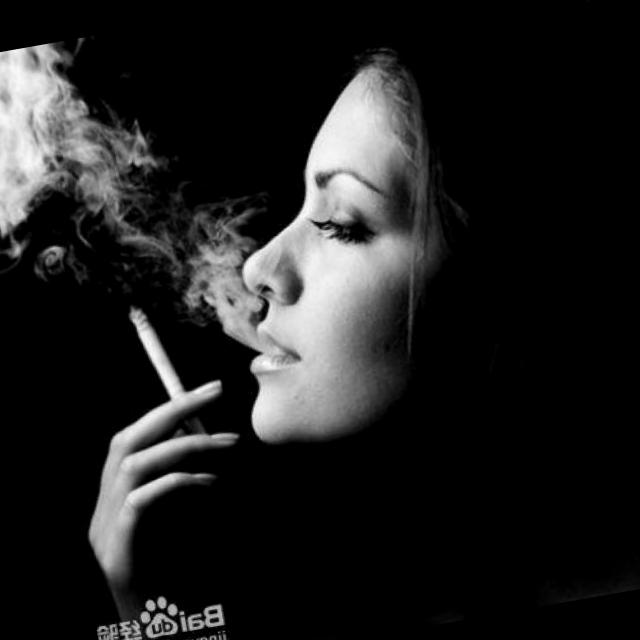smoke: (114, 273, 207, 445)
